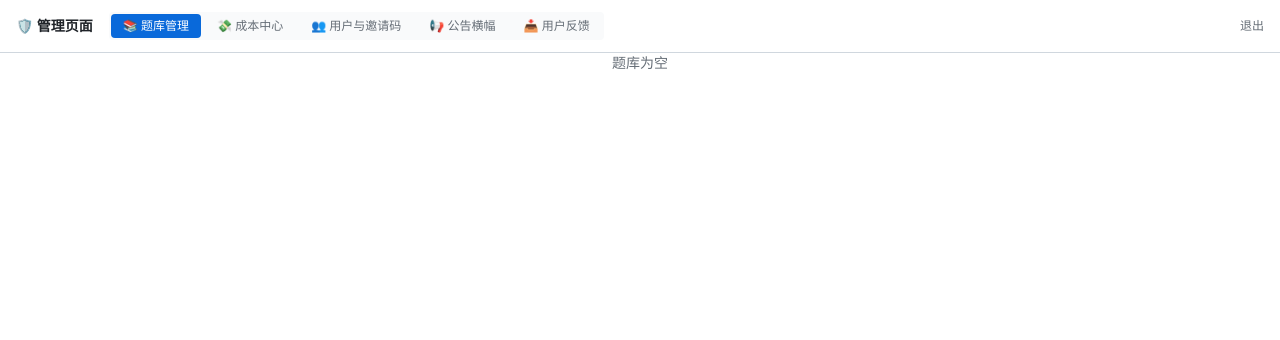
Test case: AdminPanel 用户反馈只读区 › 展示列表 / 分类计数 / 展开详情，且没有任何编辑删除入口
The image size is (1280, 340).
Click the button "📥 用户反馈". click: {"x": 557, "y": 26}
box: [512, 14, 602, 38]
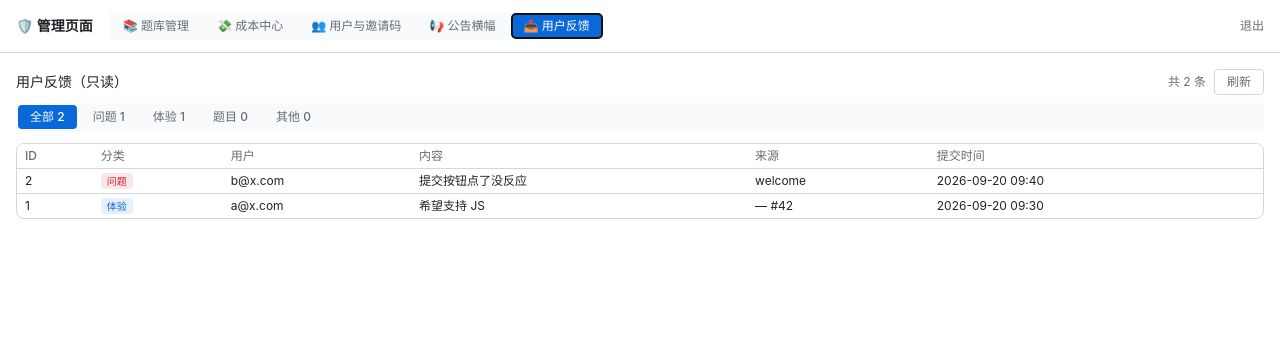
Expected: the element with test id "admin-feedback" is shown, [0, 53, 1279, 235]
Expected: the text "提交按钮点了没反应" is shown, [411, 168, 747, 194]
Expected: the text "共 2 条" is shown, [1168, 74, 1206, 90]
Note: 点行展开完整正文 + 联系方式 / 会话 / UA
Click the text "希望支持 JS". click: {"x": 452, "y": 206}
box: [411, 194, 747, 218]
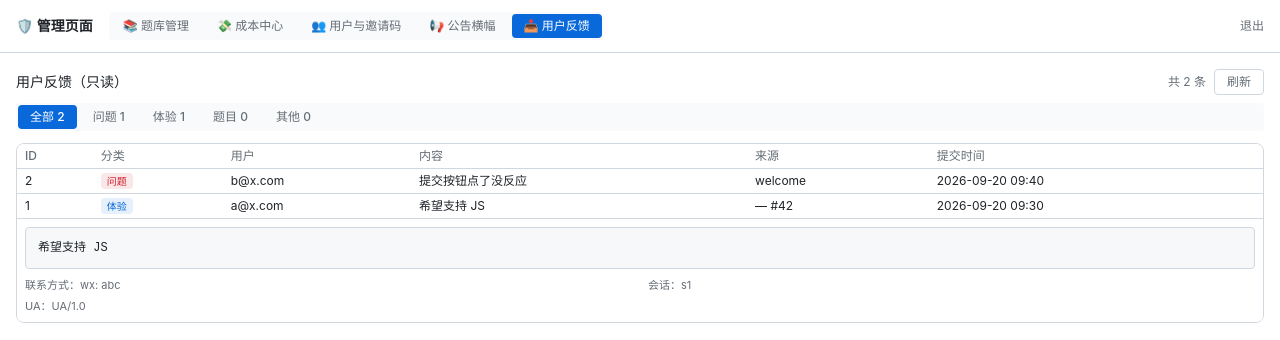
Expected: the text "wx: abc" is shown, [80, 278, 120, 292]
Expected: the text "s1" is shown, [681, 278, 691, 292]
